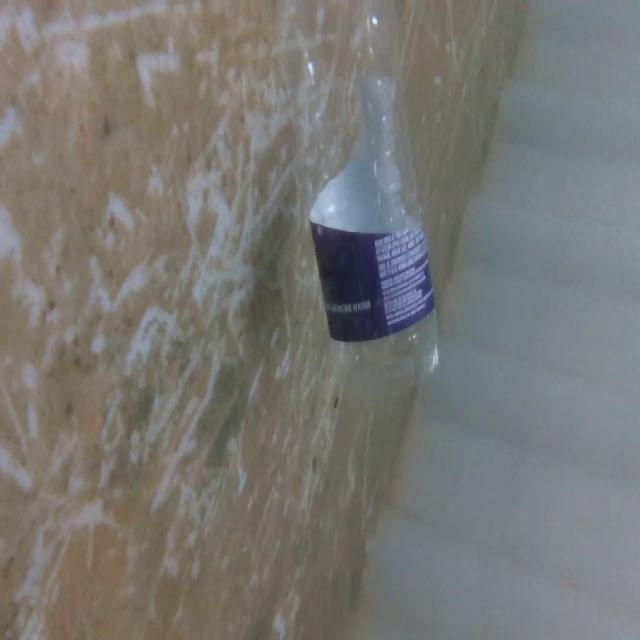plastic bottle: (274, 0, 453, 400)
